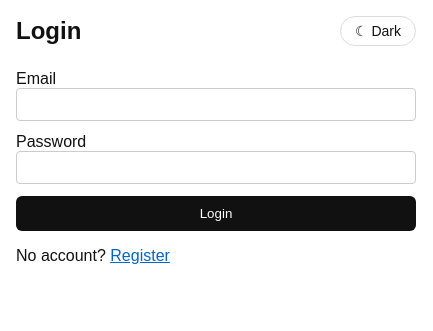
Test: Login page › shows a fallback error when no server detail is returned
Type "user@example.com" into the field labelled "Email".
click(216, 104); type("user@example.com")  # box 16,88 -> 416,121
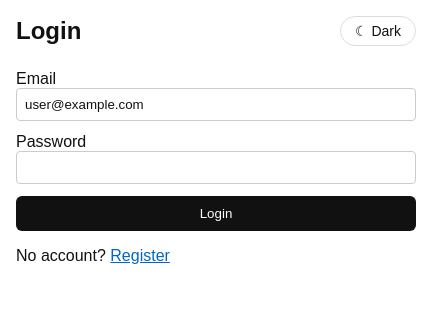
Type "pass" into the password field labelled "Password".
click(216, 168); type("pass")  # box 16,151 -> 416,184
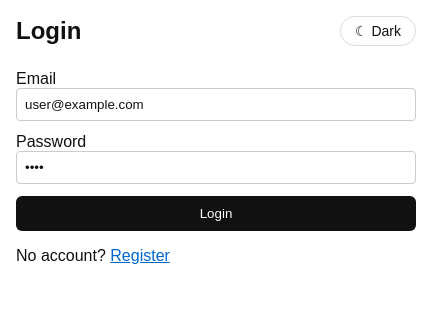
Click the button "Login".
click(216, 214)  # box 16,196 -> 416,231
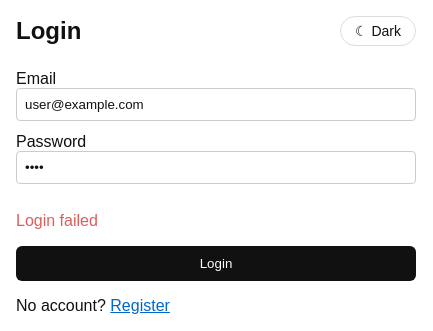
Check: the text "Login failed" is shown, box 16,212 -> 98,229
